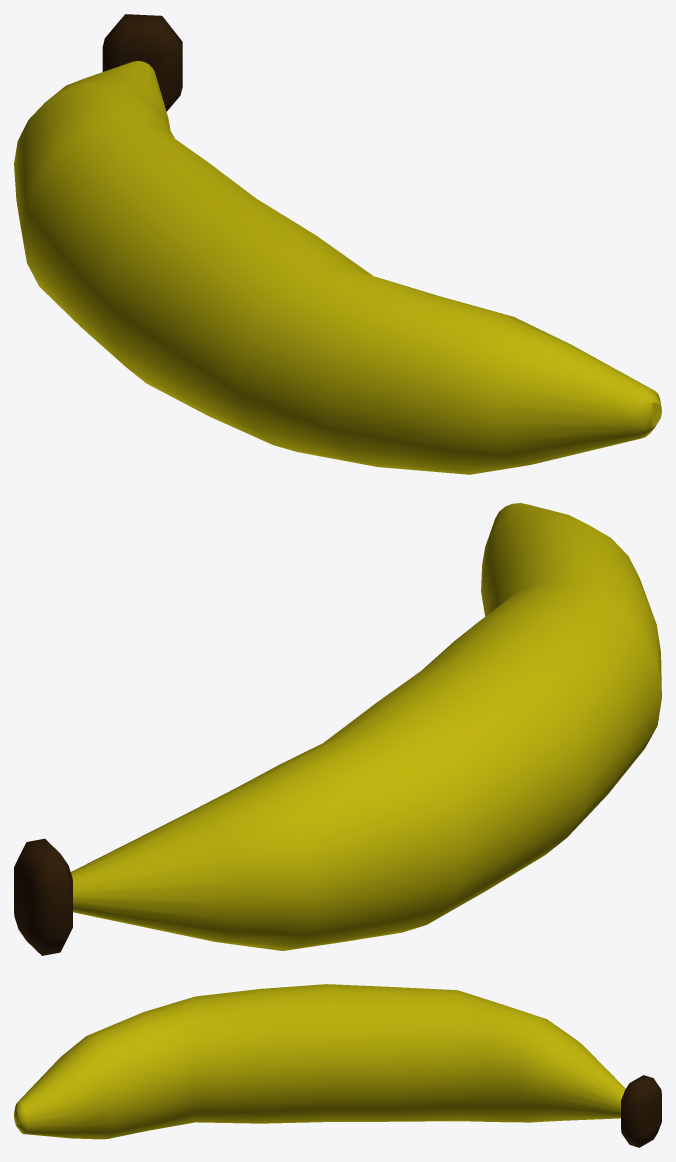
File: BIG BANANA.fbx
3 views of the same model, one above another, from view 1: azimuth 30°, elevation 25°; view 2: azimuth 150°, elevation 25°; view 3: azimuth 270°, elevation 25° (orthographic). The views are drawn at different scales.
Visible parts, largest first — view 1: pCylinder5, pCube6; view 2: pCylinder5, pCube6; view 3: pCylinder5, pCube6.
Part boxes in pixels (left/top/right/bottom): pCylinder5: left=14, top=61, right=661, bottom=474; pCube6: left=102, top=14, right=182, bottom=111; pCylinder5: left=71, top=503, right=661, bottom=950; pCube6: left=14, top=838, right=72, bottom=955; pCylinder5: left=14, top=984, right=625, bottom=1139; pCube6: left=621, top=1075, right=661, bottom=1147.
Size of the model in its own units: 288 by 168 by 781.
1 material, 1 textured.
